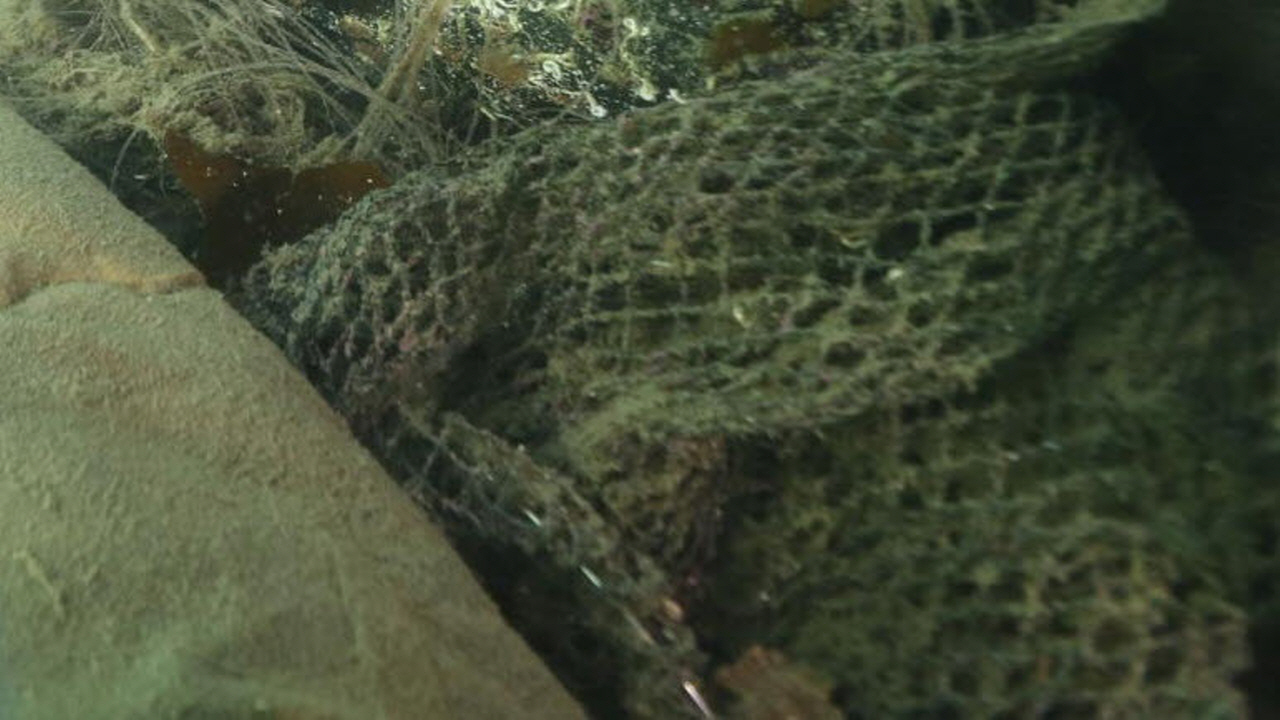fish net: (226, 10, 1280, 720)
